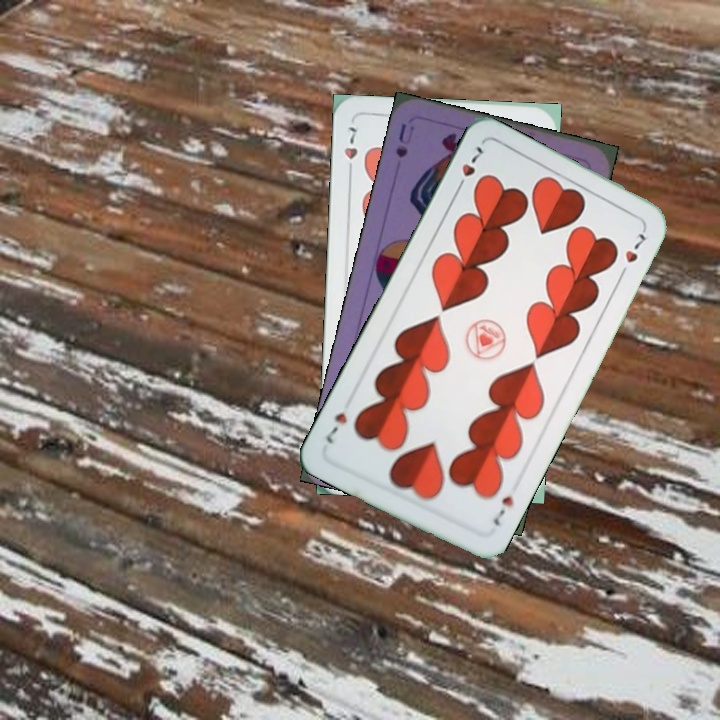H7: (452, 142, 486, 195), (488, 483, 519, 529), (339, 122, 360, 179)
SU: (392, 119, 417, 161)
